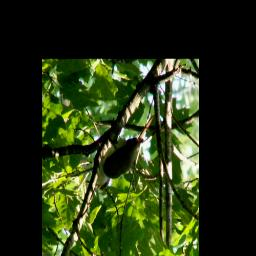Cuckoo: (93, 114, 156, 193)
